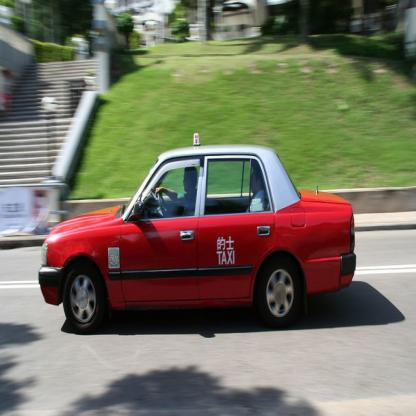taxi: (37, 127, 360, 356)
